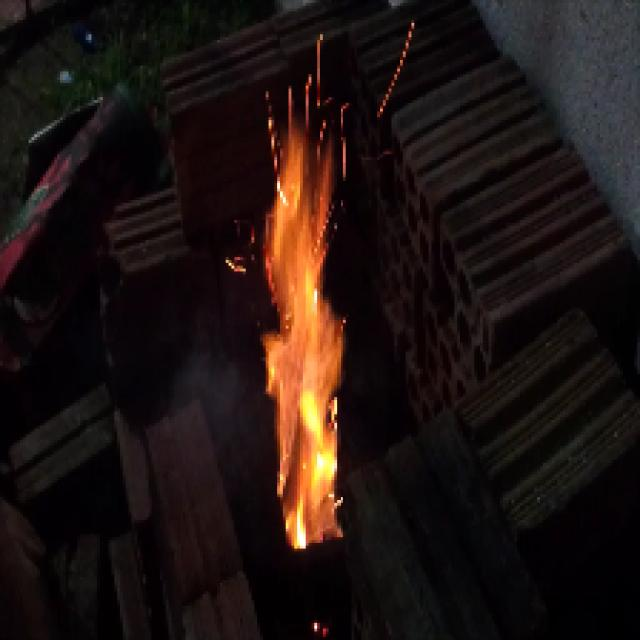fire: (251, 133, 360, 540)
